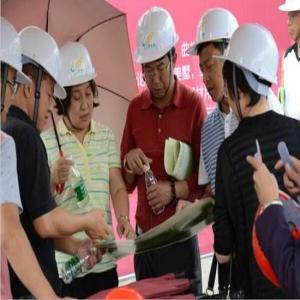white: (223, 20, 280, 115), (17, 26, 59, 134), (135, 6, 178, 99), (195, 7, 236, 101), (56, 42, 99, 128), (2, 18, 22, 126), (281, 2, 300, 44)
